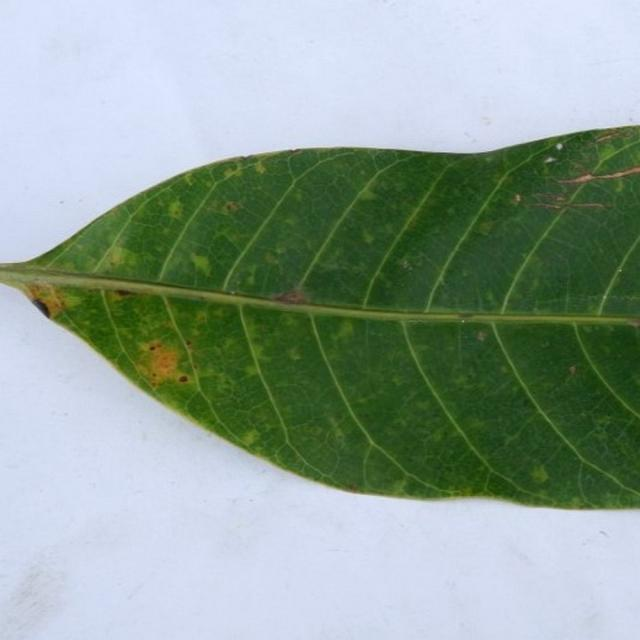Mango: (0, 127, 639, 508)
Powdery_Mildew: (101, 294, 208, 388), (288, 259, 383, 297), (555, 161, 640, 184), (209, 156, 273, 184), (518, 192, 615, 210), (117, 210, 179, 238), (25, 281, 69, 319), (183, 248, 228, 285), (206, 197, 249, 217), (105, 244, 140, 268), (590, 128, 636, 144), (273, 286, 311, 305), (595, 141, 625, 165), (324, 412, 347, 439), (57, 291, 85, 312), (332, 318, 356, 342), (189, 252, 212, 277), (217, 228, 244, 248), (544, 142, 565, 166), (105, 289, 137, 304), (562, 172, 601, 184), (356, 184, 381, 202), (240, 263, 259, 286), (475, 219, 498, 237), (530, 464, 550, 483), (249, 342, 268, 362), (240, 429, 259, 446), (192, 310, 210, 327), (168, 200, 184, 219), (286, 346, 304, 362), (360, 228, 376, 245), (263, 250, 281, 265), (244, 363, 263, 377), (391, 479, 407, 493), (222, 166, 237, 179), (254, 161, 267, 174), (183, 173, 196, 186), (624, 318, 640, 328), (436, 274, 447, 287), (400, 259, 412, 270), (458, 312, 474, 320), (570, 497, 584, 506), (476, 331, 486, 342), (510, 194, 521, 204), (522, 396, 533, 406), (569, 365, 577, 376), (485, 154, 496, 162), (544, 156, 556, 163), (287, 148, 301, 154), (349, 484, 357, 491), (239, 155, 249, 160), (556, 143, 563, 150), (149, 344, 157, 350), (618, 268, 623, 273)
